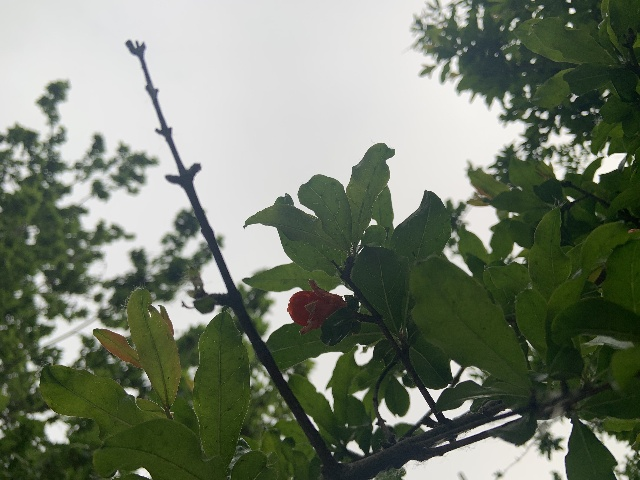flower: (286, 279, 347, 334)
